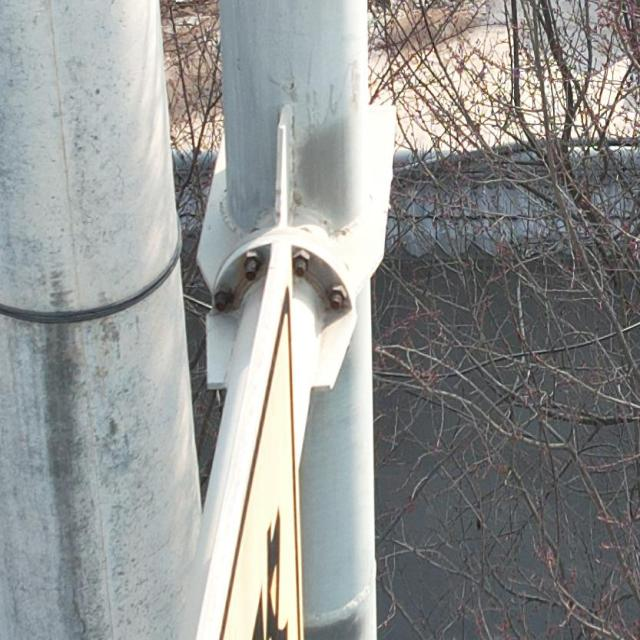blur bolt: (212, 284, 234, 310), (327, 284, 348, 307), (292, 248, 310, 274), (243, 249, 261, 274)
